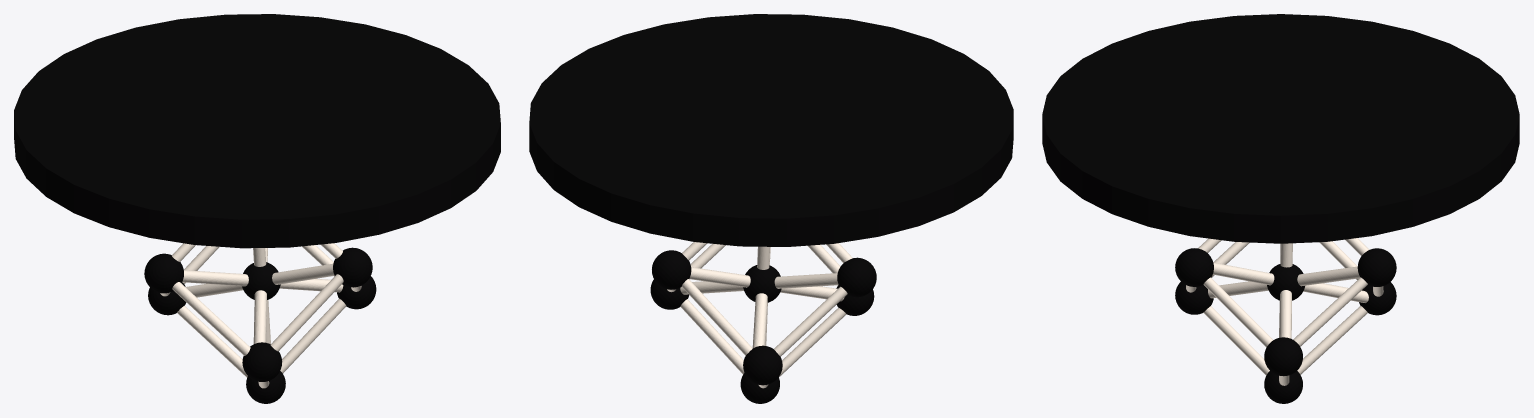
Rendered from pedestal1.glb.
3 views of the same model, side by side, from view 1: azimuth 30°, elevation 25°; view 2: azimuth 150°, elevation 25°; view 3: azimuth 270°, elevation 25° (orthographic). The views are drawn at different scales.
Visible parts, largest first — view 1: Cylinder, Cylinder.012; view 2: Cylinder, Cylinder.012; view 3: Cylinder, Cylinder.012.
Boxes of the visible parts, bbox=[...] form: Cylinder: bbox=[14, 14, 500, 248]; Cylinder.012: bbox=[144, 243, 376, 403]; Cylinder: bbox=[529, 14, 1013, 246]; Cylinder.012: bbox=[650, 242, 876, 403]; Cylinder: bbox=[1042, 14, 1519, 243]; Cylinder.012: bbox=[1175, 238, 1396, 403].
Size of the model in its own units: 6.79 by 4.43 by 6.79.
